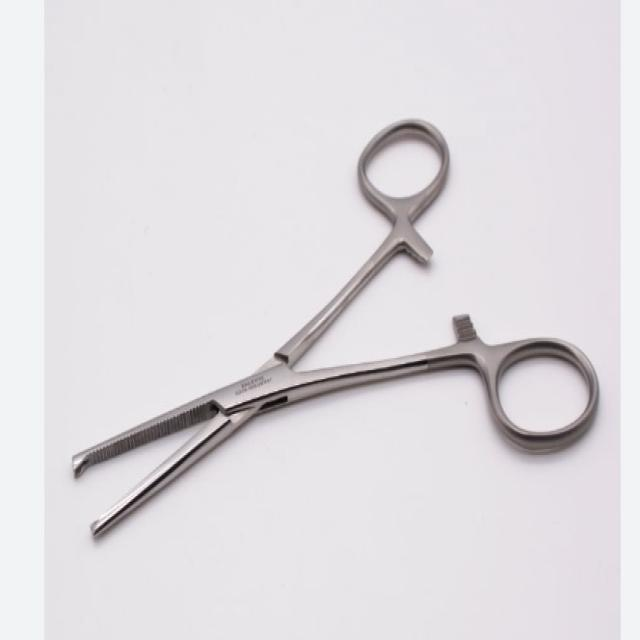Kocher Forceps: (70, 109, 604, 547)
